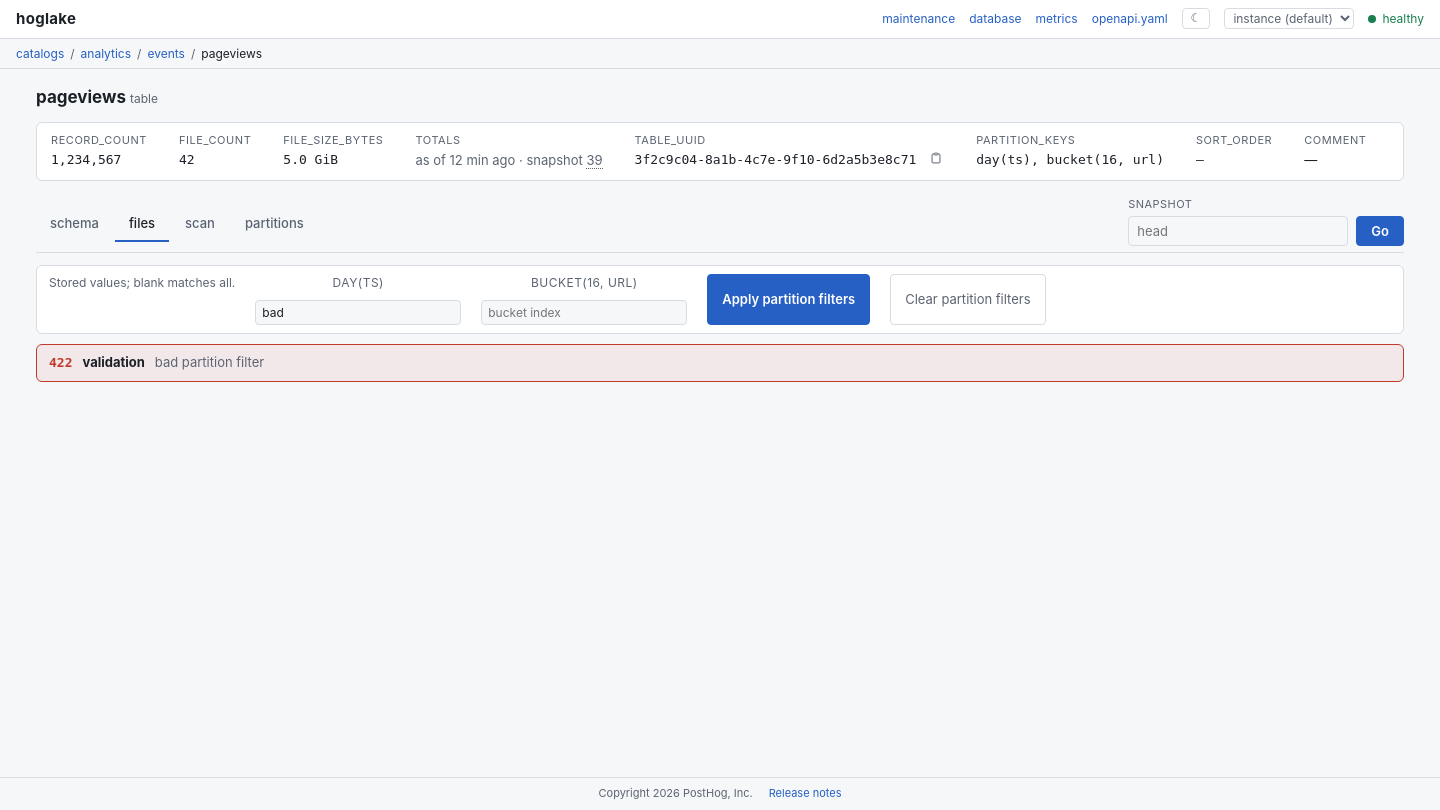
Test: TablePage › keeps filters editable after a failed files request
Expected: the message shows "bad partition filter", [155,354,264,370]
Expected: the field named "filter by day(ts)" holds "bad", [255,300,461,325]
Click the button "Clear partition filters" at (968, 300), box [890,274,1046,325]
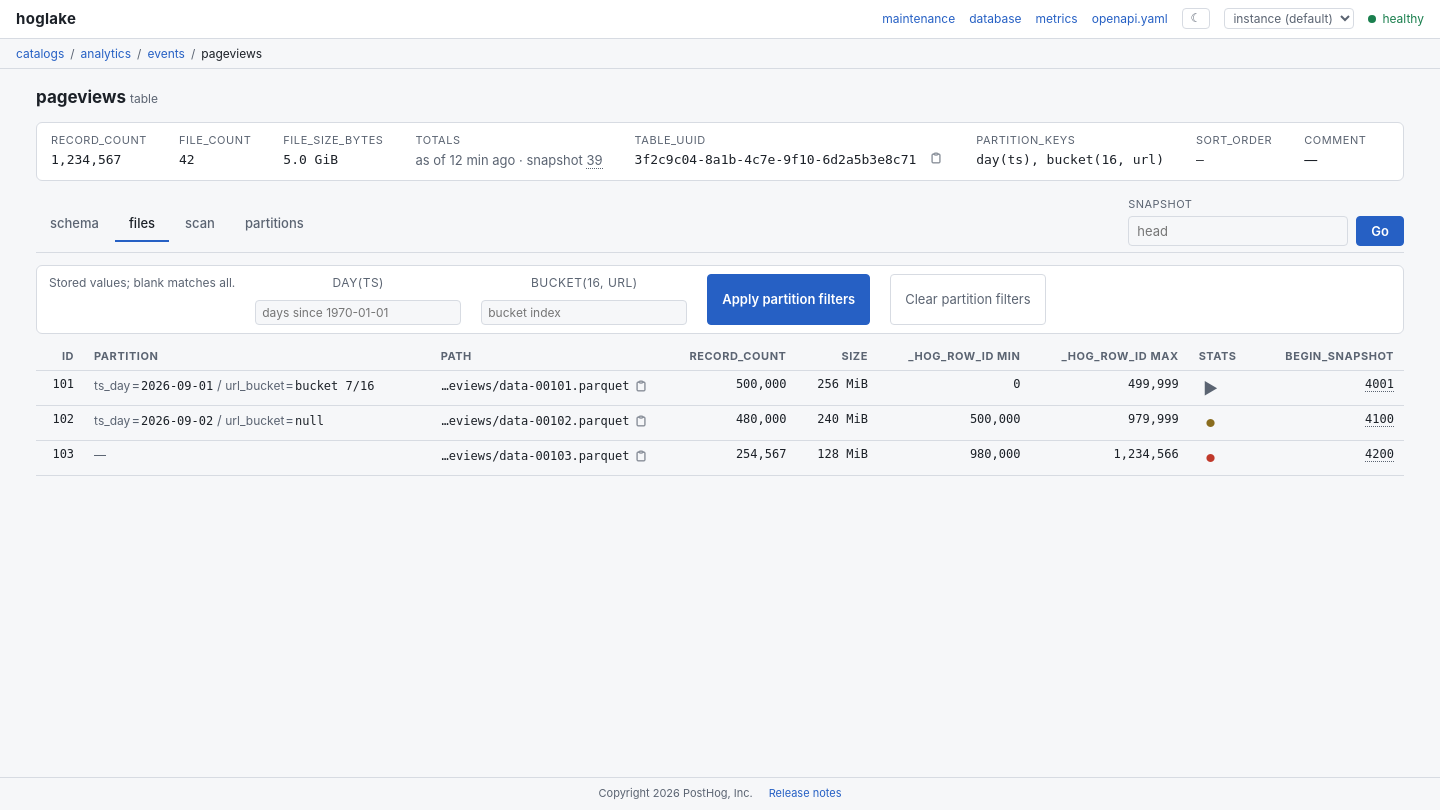
Result: the text "254,567" is shown at [661,441,796,476]
Result: the message "422 validation bad partition filter" is gone
Result: the field named "filter by day(ts)" is empty at [255,300,461,325]
